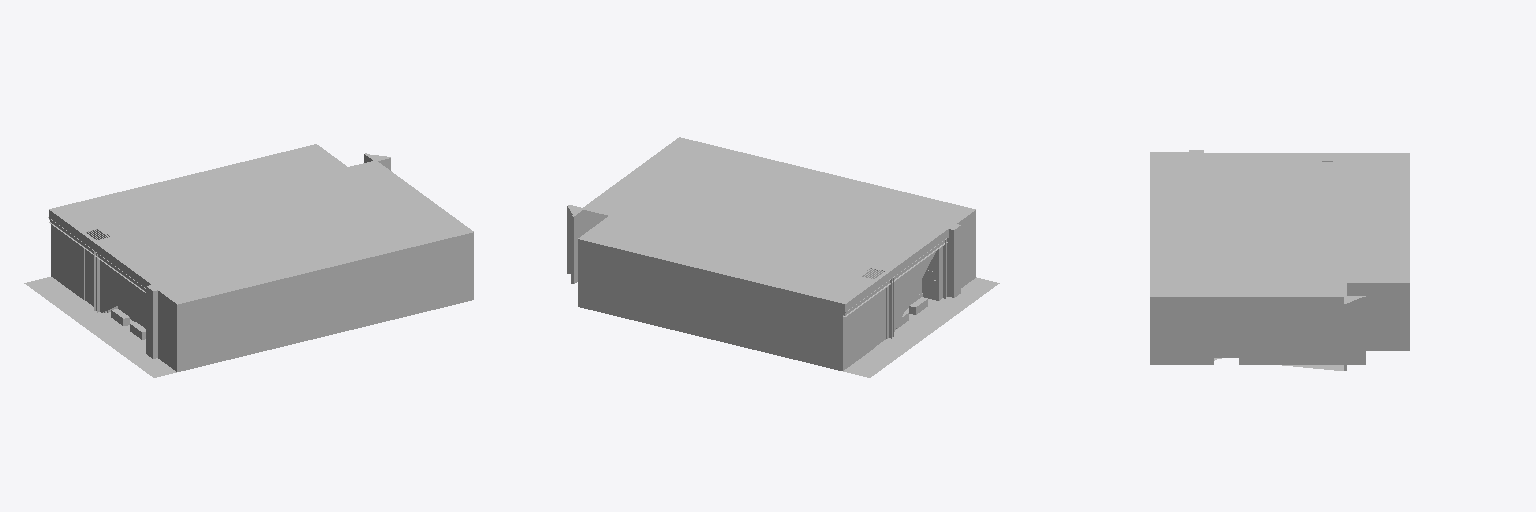
Rendered from gallery 1.obj.
3 views of the same model, side by side, from view 1: azimuth 30°, elevation 25°; view 2: azimuth 150°, elevation 25°; view 3: azimuth 270°, elevation 25° (orthographic).
Visible parts, largest first — view 1: Mesh221 Group92 floor_plansdxf_dwg1 Model, Mesh199 Group91 floor_plansdxf_dwg1 Model; view 2: Mesh221 Group92 floor_plansdxf_dwg1 Model, Mesh199 Group91 floor_plansdxf_dwg1 Model, Mesh201 Component_3_1 Group93 Group92 floor_plansdxf_dwg1 Model; view 3: Mesh221 Group92 floor_plansdxf_dwg1 Model, Mesh199 Group91 floor_plansdxf_dwg1 Model.
Boxes of the visible parts, box(x1,y1,x2,y2) form: Mesh221 Group92 floor_plansdxf_dwg1 Model: box(24, 144, 473, 377); Mesh199 Group91 floor_plansdxf_dwg1 Model: box(100, 169, 425, 275); Mesh221 Group92 floor_plansdxf_dwg1 Model: box(567, 137, 999, 377); Mesh199 Group91 floor_plansdxf_dwg1 Model: box(622, 167, 921, 275); Mesh201 Component_3_1 Group93 Group92 floor_plansdxf_dwg1 Model: box(843, 237, 948, 316); Mesh221 Group92 floor_plansdxf_dwg1 Model: box(1150, 150, 1409, 370); Mesh199 Group91 floor_plansdxf_dwg1 Model: box(1214, 162, 1346, 295).
Bounding box in the file's own units: 21985 × 4267 × 14800.